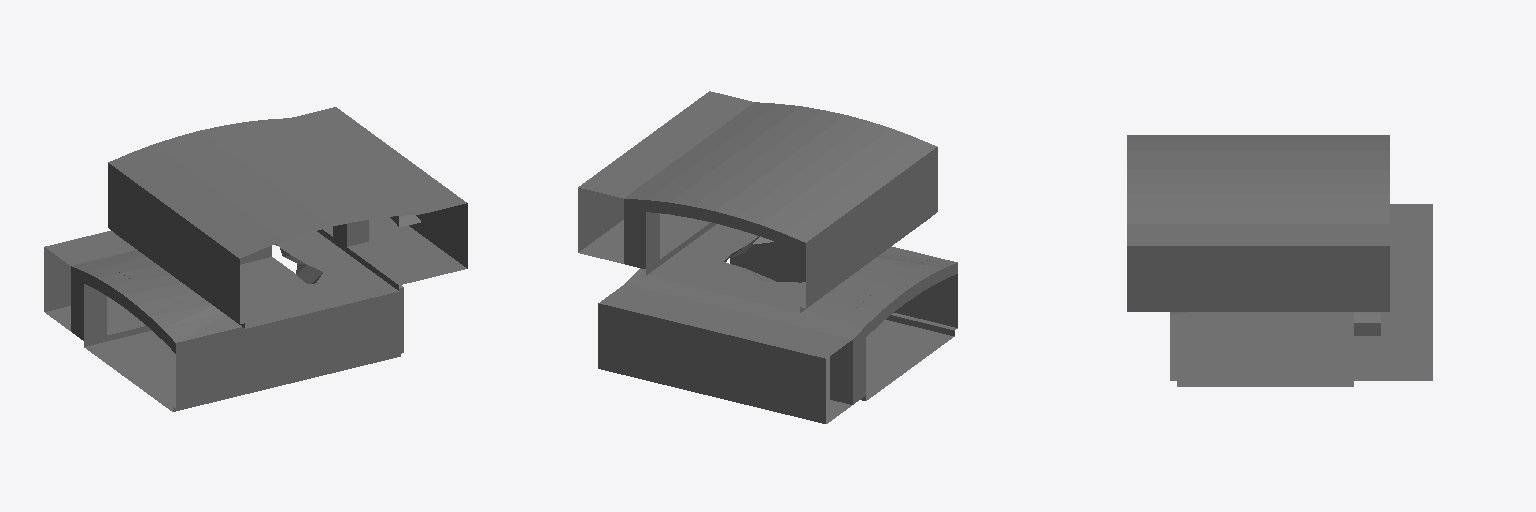
Rendered from catacomb_hole_t_1.obj.
3 views of the same model, side by side, from view 1: azimuth 30°, elevation 25°; view 2: azimuth 150°, elevation 25°; view 3: azimuth 270°, elevation 25° (orthographic).
Parts seen in each view (by area): view 1: catacomb_top_1, catacomb_bottom_2, catacomb_top_1 broken_floor, catacomb_bottom_2 main_pillar_1, catacomb_top_1 main_pillar_2; view 2: catacomb_top_1, catacomb_bottom_2, catacomb_top_1 broken_floor, catacomb_top_1 main_pillar_1, catacomb_bottom_2 main_pillar_1; view 3: catacomb_top_1, catacomb_bottom_2.
Part boxes in pixels (x1,y1,x2,y2): catacomb_top_1: (108, 107, 467, 327); catacomb_bottom_2: (44, 231, 403, 411); catacomb_top_1 broken_floor: (240, 231, 398, 328); catacomb_bottom_2 main_pillar_1: (71, 266, 175, 353); catacomb_top_1 main_pillar_2: (333, 220, 368, 246); catacomb_top_1: (578, 91, 937, 312); catacomb_bottom_2: (598, 242, 957, 423); catacomb_top_1 broken_floor: (647, 224, 805, 312); catacomb_top_1 main_pillar_1: (624, 199, 805, 269); catacomb_bottom_2 main_pillar_1: (830, 259, 957, 404); catacomb_top_1: (1127, 135, 1389, 311); catacomb_bottom_2: (1170, 204, 1432, 386).
Bounding box in the file's own units: 11.85 × 7.16 × 11.64.